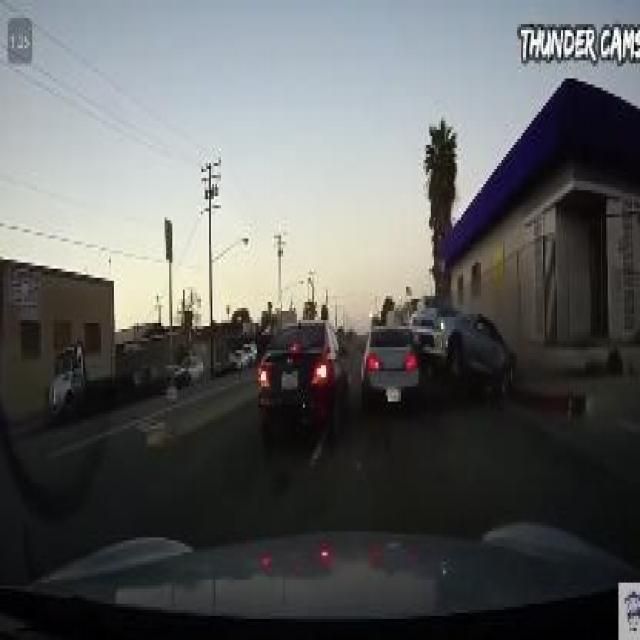accident: (349, 293, 509, 417)
